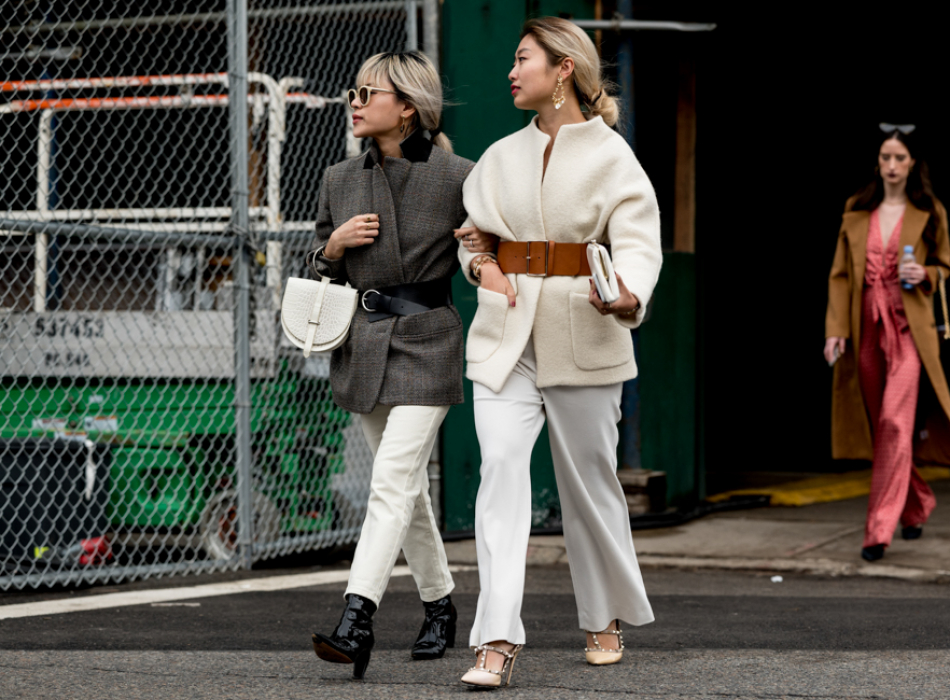Person: (452, 23, 667, 700), (264, 42, 484, 675), (807, 83, 950, 570)
